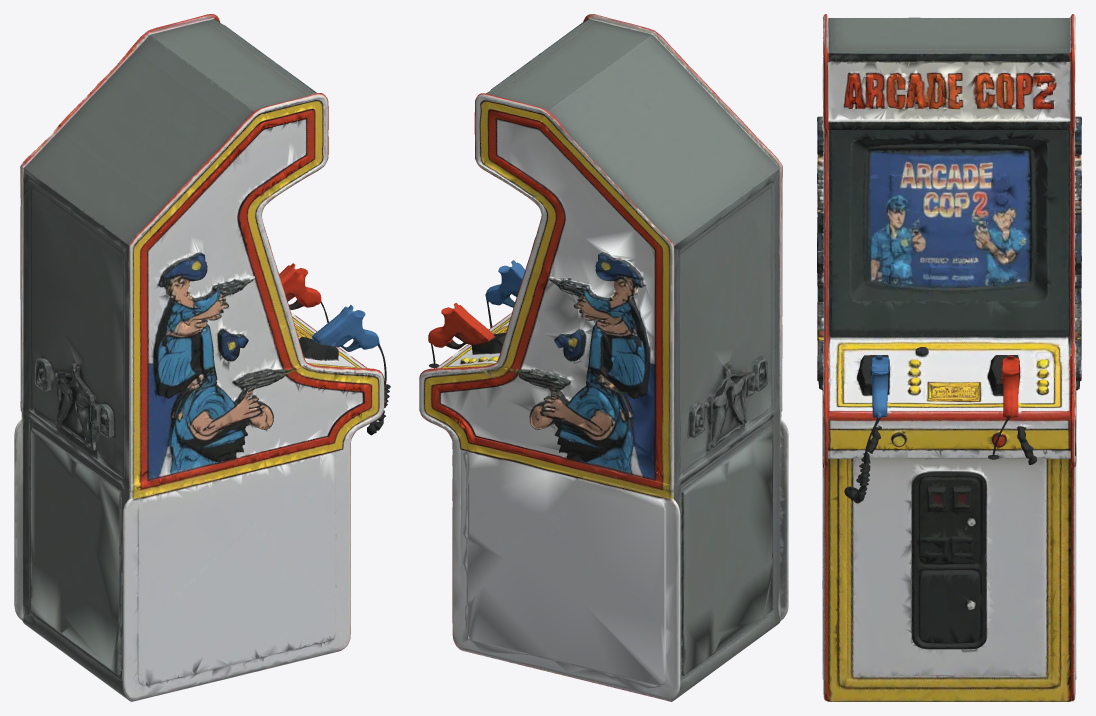
File: arc-vcop2.glb
The picture shows the model from 3 angles, left to right: view 1: azimuth 30°, elevation 25°; view 2: azimuth 150°, elevation 25°; view 3: azimuth 270°, elevation 25°; orthographic projection. The views are drawn at different scales.
Visible parts, largest first — view 1: tripo_node_c1c9aecf-365d-4417-8a86-0587325f0619; view 2: tripo_node_c1c9aecf-365d-4417-8a86-0587325f0619; view 3: tripo_node_c1c9aecf-365d-4417-8a86-0587325f0619.
Part boxes in pixels (x1,y1,x2,y2): tripo_node_c1c9aecf-365d-4417-8a86-0587325f0619: (14, 14, 390, 701); tripo_node_c1c9aecf-365d-4417-8a86-0587325f0619: (419, 14, 788, 701); tripo_node_c1c9aecf-365d-4417-8a86-0587325f0619: (817, 14, 1081, 701).
Bounding box in the file's own units: 0.5288 × 0.9988 × 0.3727.
Materials: 1 (1 with a texture image).
